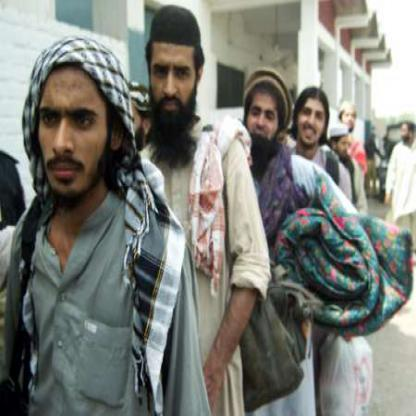face: (36, 43, 115, 203), (150, 14, 200, 134), (247, 81, 283, 157), (299, 89, 327, 147), (337, 128, 352, 158), (344, 107, 357, 133), (403, 125, 414, 146)
